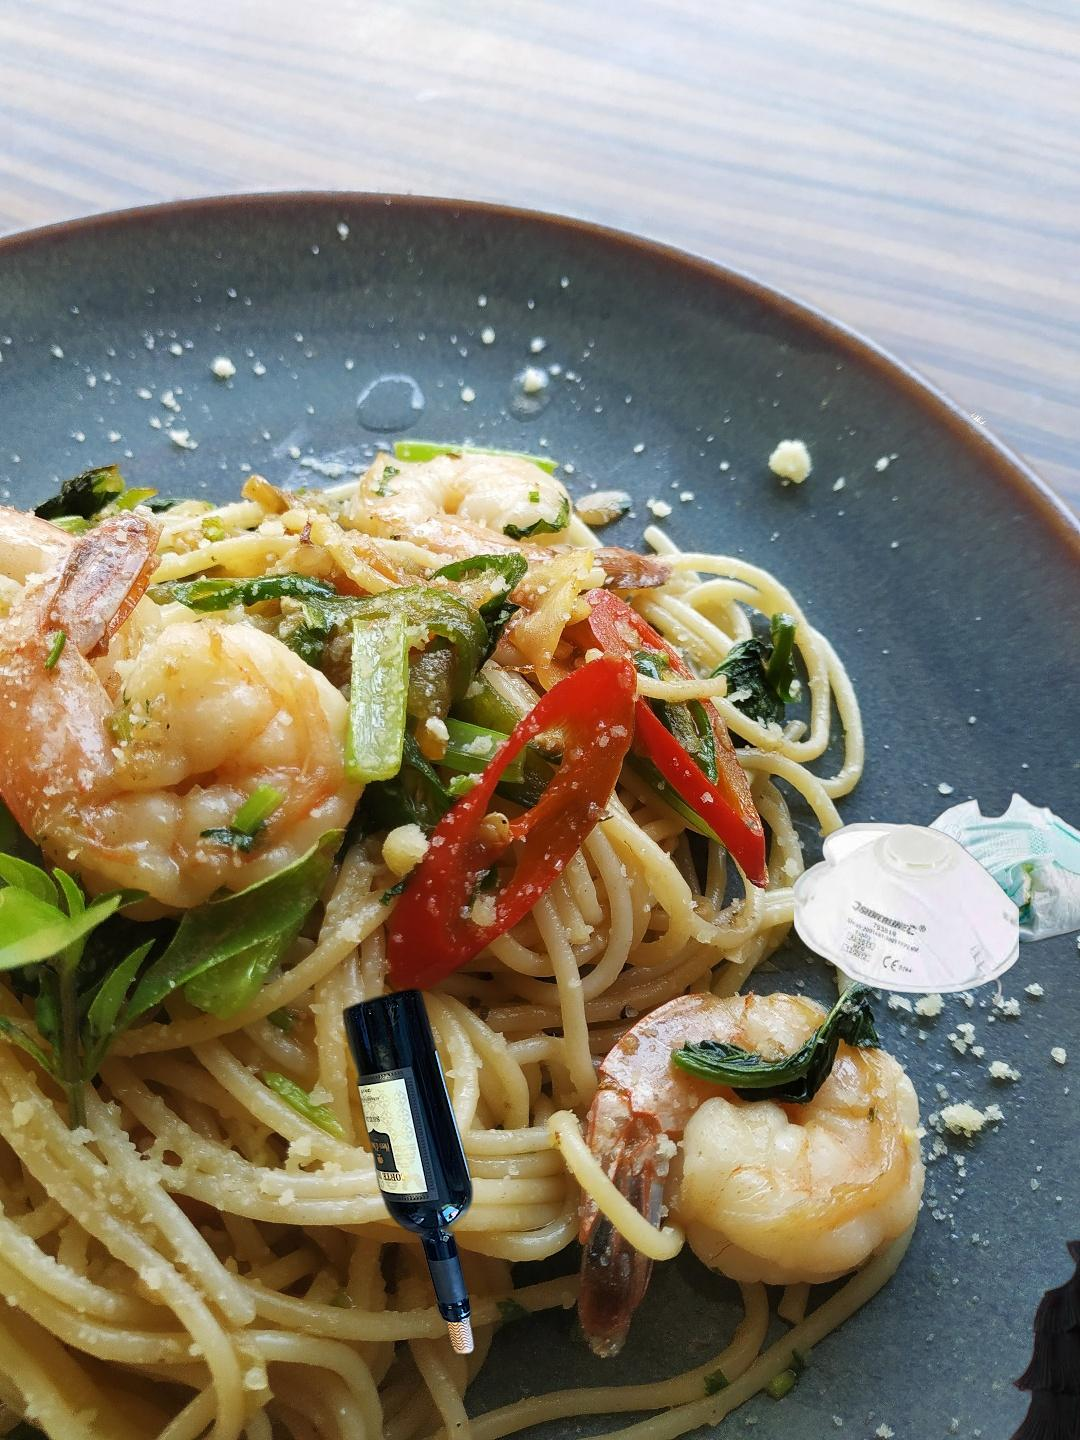clothes: (976, 1225, 1080, 1440)
glass: (338, 982, 478, 1359)
trash: (794, 820, 1019, 1020), (912, 783, 1080, 947)
